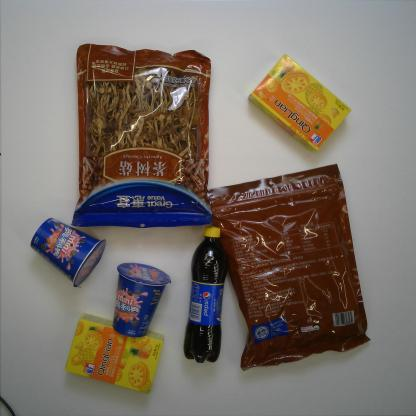Dessert: (248, 54, 352, 154), (64, 312, 165, 395), (30, 217, 107, 288), (112, 262, 172, 338)
Dried Food: (206, 161, 372, 371), (70, 43, 215, 228)
Drink: (182, 226, 230, 364)
